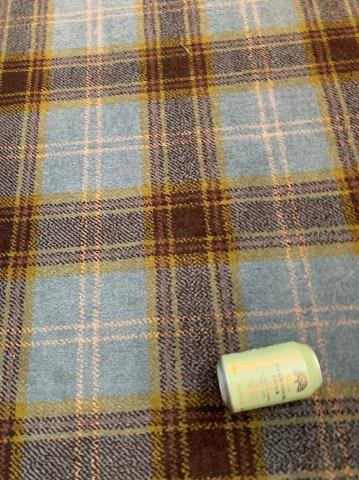kaleng: (218, 342, 321, 411)
